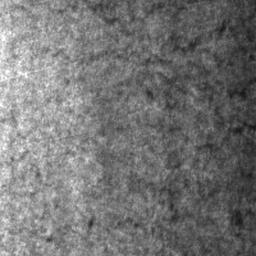Crazing: (29, 13, 256, 155), (8, 161, 254, 247), (0, 1, 165, 37), (8, 110, 41, 200), (228, 200, 245, 256), (171, 4, 188, 24), (166, 150, 182, 170), (148, 145, 155, 153)
